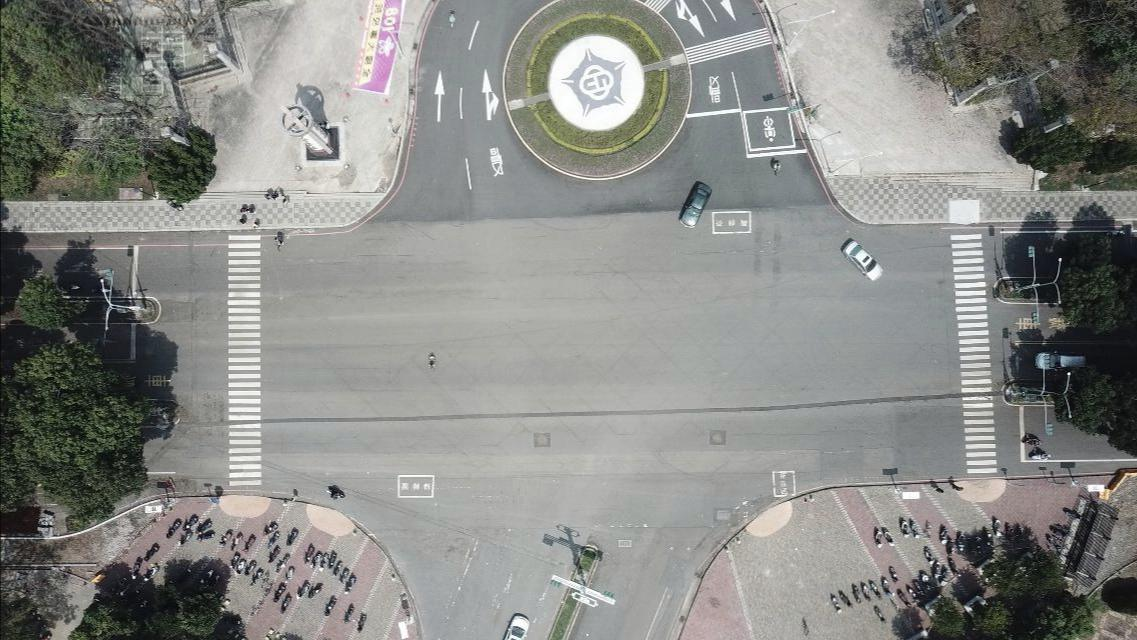vehicle: (840, 238, 883, 282), (676, 179, 713, 228), (1032, 351, 1086, 372)
